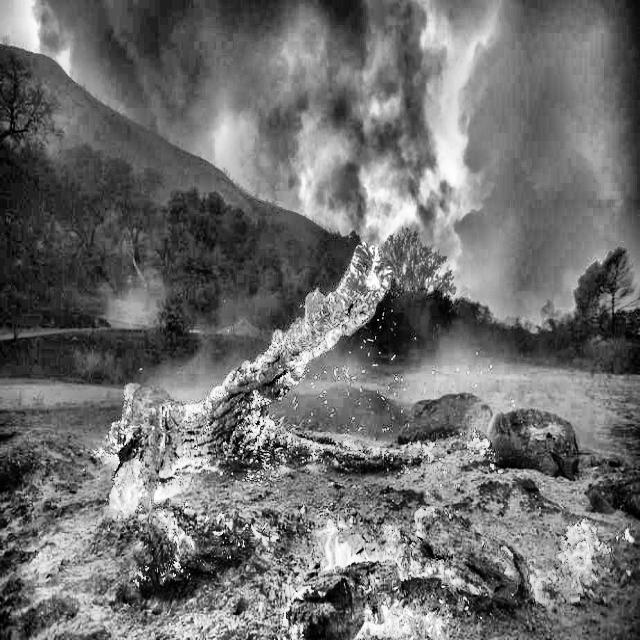fire: (84, 362, 611, 640), (298, 220, 425, 406)
